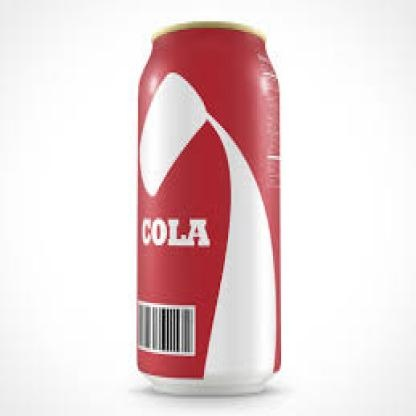trash: (137, 23, 280, 393)
